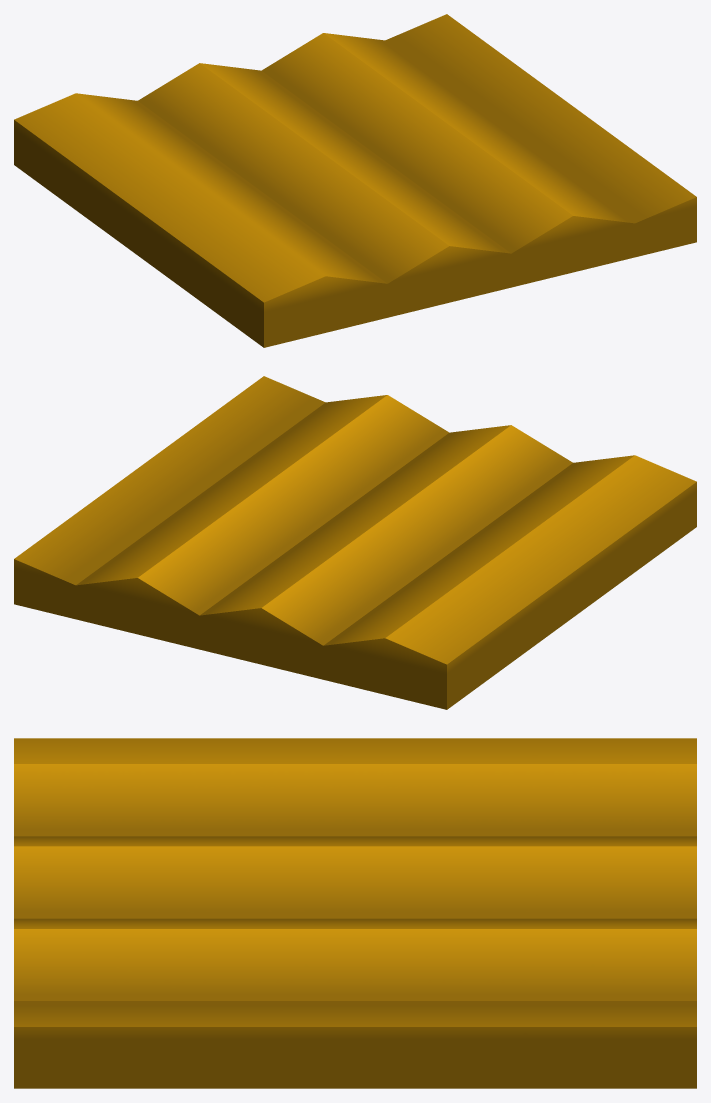
File: tile.glb
3 renders of one model, top to bottom at view 1: azimuth 30°, elevation 25°; view 2: azimuth 150°, elevation 25°; view 3: azimuth 270°, elevation 25°, orthographic. The views are drawn at different scales.
Parts seen in each view (by area): view 1: Tile; view 2: Tile; view 3: Tile.
Boxes of the visible parts, x1,y1,x2,y2 form: Tile: (14,14,696,347); Tile: (14,376,696,709); Tile: (14,738,696,1088).
Size of the model in its own units: 1 by 0.125 by 1.
1 material, 1 textured.
